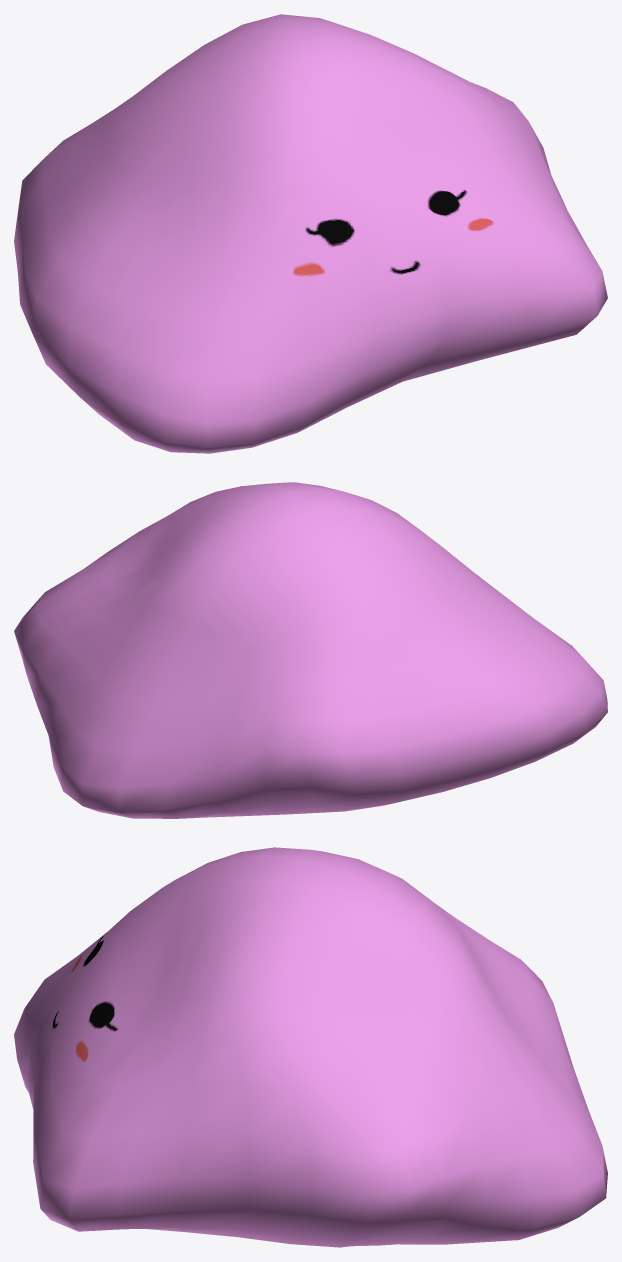
File: SlimePink.fbx
The picture shows the model from 3 angles, top to bottom: view 1: azimuth 30°, elevation 25°; view 2: azimuth 150°, elevation 25°; view 3: azimuth 270°, elevation 25°; orthographic projection. The views are drawn at different scales.
Parts seen in each view (by area): view 1: PinkSlime; view 2: PinkSlime; view 3: PinkSlime.
Part boxes in pixels (box(x1,y1,x2,y2)): PinkSlime: box(14, 14, 607, 453); PinkSlime: box(14, 482, 607, 818); PinkSlime: box(14, 847, 607, 1247).
Size of the model in its own units: 139 by 73.03 by 122.
